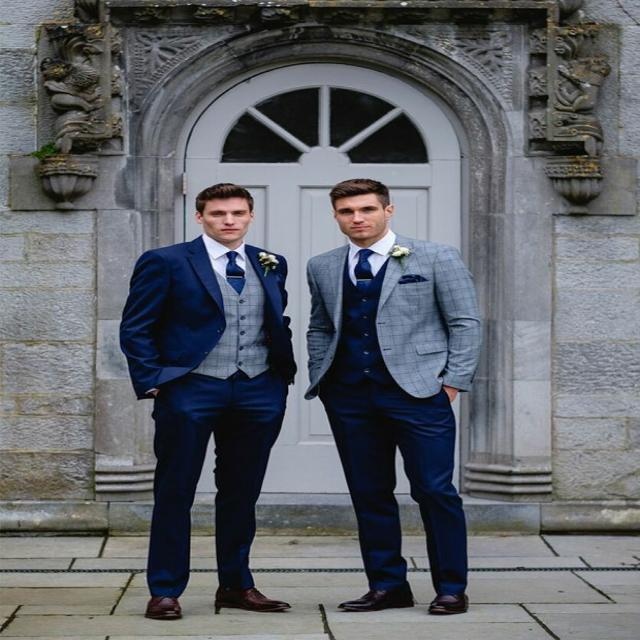male-dress: (304, 241, 498, 598), (124, 240, 292, 592), (298, 250, 489, 397)
